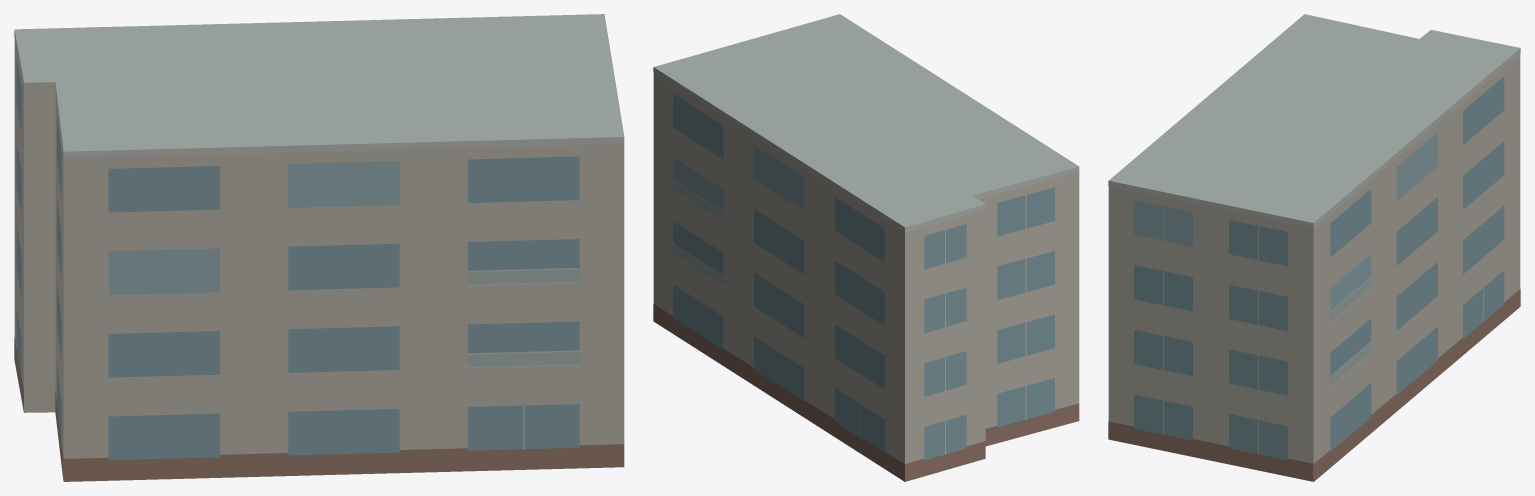
Rendered from survey-upis-32997169.glb.
3 renders of one model, left to right at view 1: azimuth 30°, elevation 25°; view 2: azimuth 150°, elevation 25°; view 3: azimuth 270°, elevation 25°, orthographic. The views are drawn at different scales.
Parts seen in each view (by area): view 1: survey-upis-32997169.tmp; view 2: survey-upis-32997169.tmp; view 3: survey-upis-32997169.tmp.
Part boxes in pixels (x1,y1,x2,y2): survey-upis-32997169.tmp: (14,14,624,481); survey-upis-32997169.tmp: (653,14,1079,481); survey-upis-32997169.tmp: (1108,14,1520,481).
Bounding box in the file's own units: 20.46 × 11.8 × 17.03.
